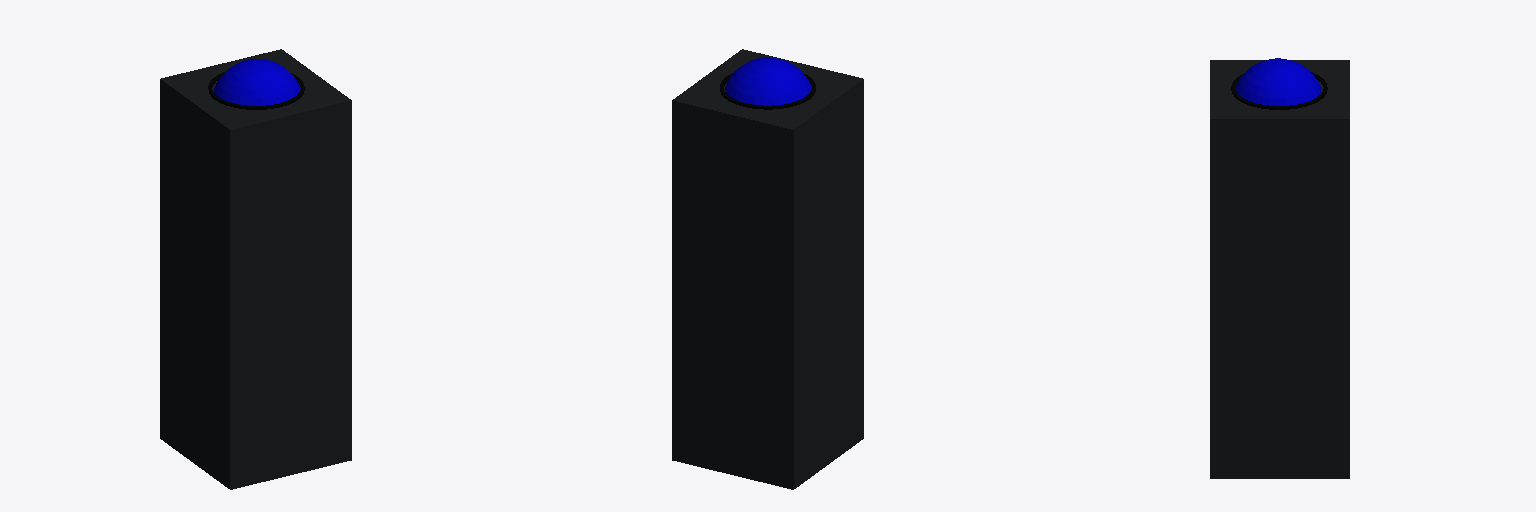
The model's file is bluebutton.obj.
The picture shows the model from 3 angles: view 1: azimuth 30°, elevation 25°; view 2: azimuth 150°, elevation 25°; view 3: azimuth 270°, elevation 25°; orthographic projection.
Visible parts, largest first — view 1: Cube, Sphere_Sphere.002, Cylinder_Cylinder.001; view 2: Cube, Sphere_Sphere.002, Cylinder_Cylinder.001; view 3: Cube, Sphere_Sphere.002, Cylinder_Cylinder.001.
Boxes of the visible parts, x1=… form: Cube: x1=160, y1=49, x2=351, y2=489; Sphere_Sphere.002: x1=214, y1=59, x2=300, y2=105; Cylinder_Cylinder.001: x1=208, y1=72, x2=304, y2=109; Cube: x1=672, y1=49, x2=863, y2=489; Sphere_Sphere.002: x1=725, y1=57, x2=811, y2=105; Cylinder_Cylinder.001: x1=720, y1=73, x2=815, y2=109; Cube: x1=1210, y1=60, x2=1349, y2=478; Sphere_Sphere.002: x1=1235, y1=58, x2=1320, y2=105; Cylinder_Cylinder.001: x1=1231, y1=72, x2=1327, y2=109.
Size of the model in its own units: 0.4 by 1.22 by 0.4.